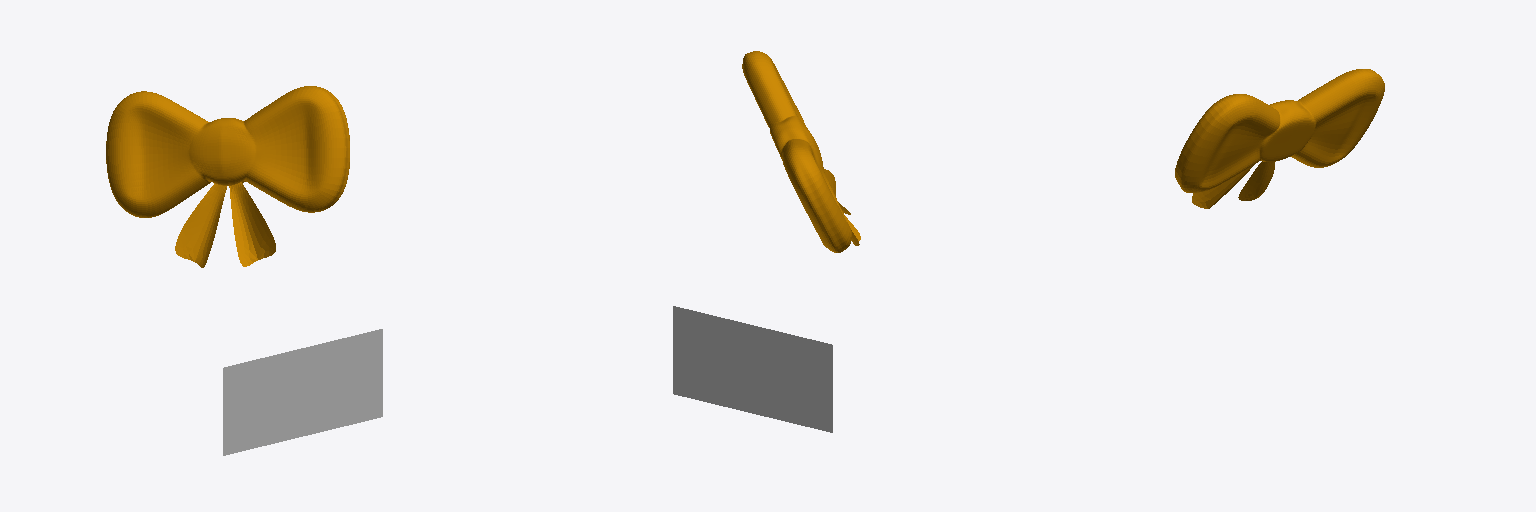
File: laco3.obj
The picture shows the model from 3 angles: view 1: azimuth 30°, elevation 25°; view 2: azimuth 150°, elevation 25°; view 3: azimuth 270°, elevation 25°; orthographic projection.
Parts seen in each view (by area): view 1: laco2_Cube.003, Logo_Plane; view 2: Logo_Plane, laco2_Cube.003; view 3: laco2_Cube.003.
Part boxes in pixels (left/top/right/bottom): laco2_Cube.003: left=106, top=86, right=349, bottom=267; Logo_Plane: left=223, top=329, right=382, bottom=455; Logo_Plane: left=673, top=306, right=832, bottom=432; laco2_Cube.003: left=742, top=51, right=860, bottom=252; laco2_Cube.003: left=1175, top=69, right=1384, bottom=208.
Bounding box in the file's own units: 0.1901 × 0.289 × 0.1556.